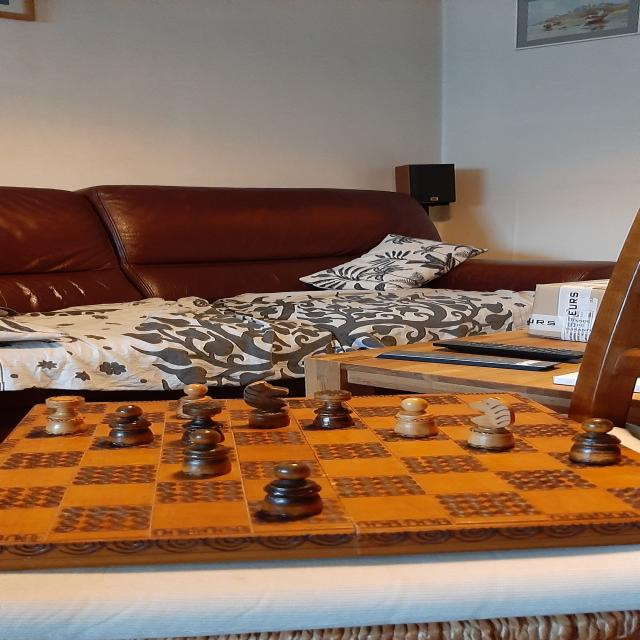black-knight: (243, 381, 290, 428)
black-pawn: (262, 461, 324, 518), (180, 429, 232, 477), (568, 418, 621, 465), (108, 404, 154, 446)
black-rook: (181, 402, 226, 444), (312, 390, 354, 428)
white-knight: (467, 396, 515, 449)
white-pawn: (394, 398, 438, 438), (175, 383, 215, 419)
white-rook: (44, 396, 88, 434)
